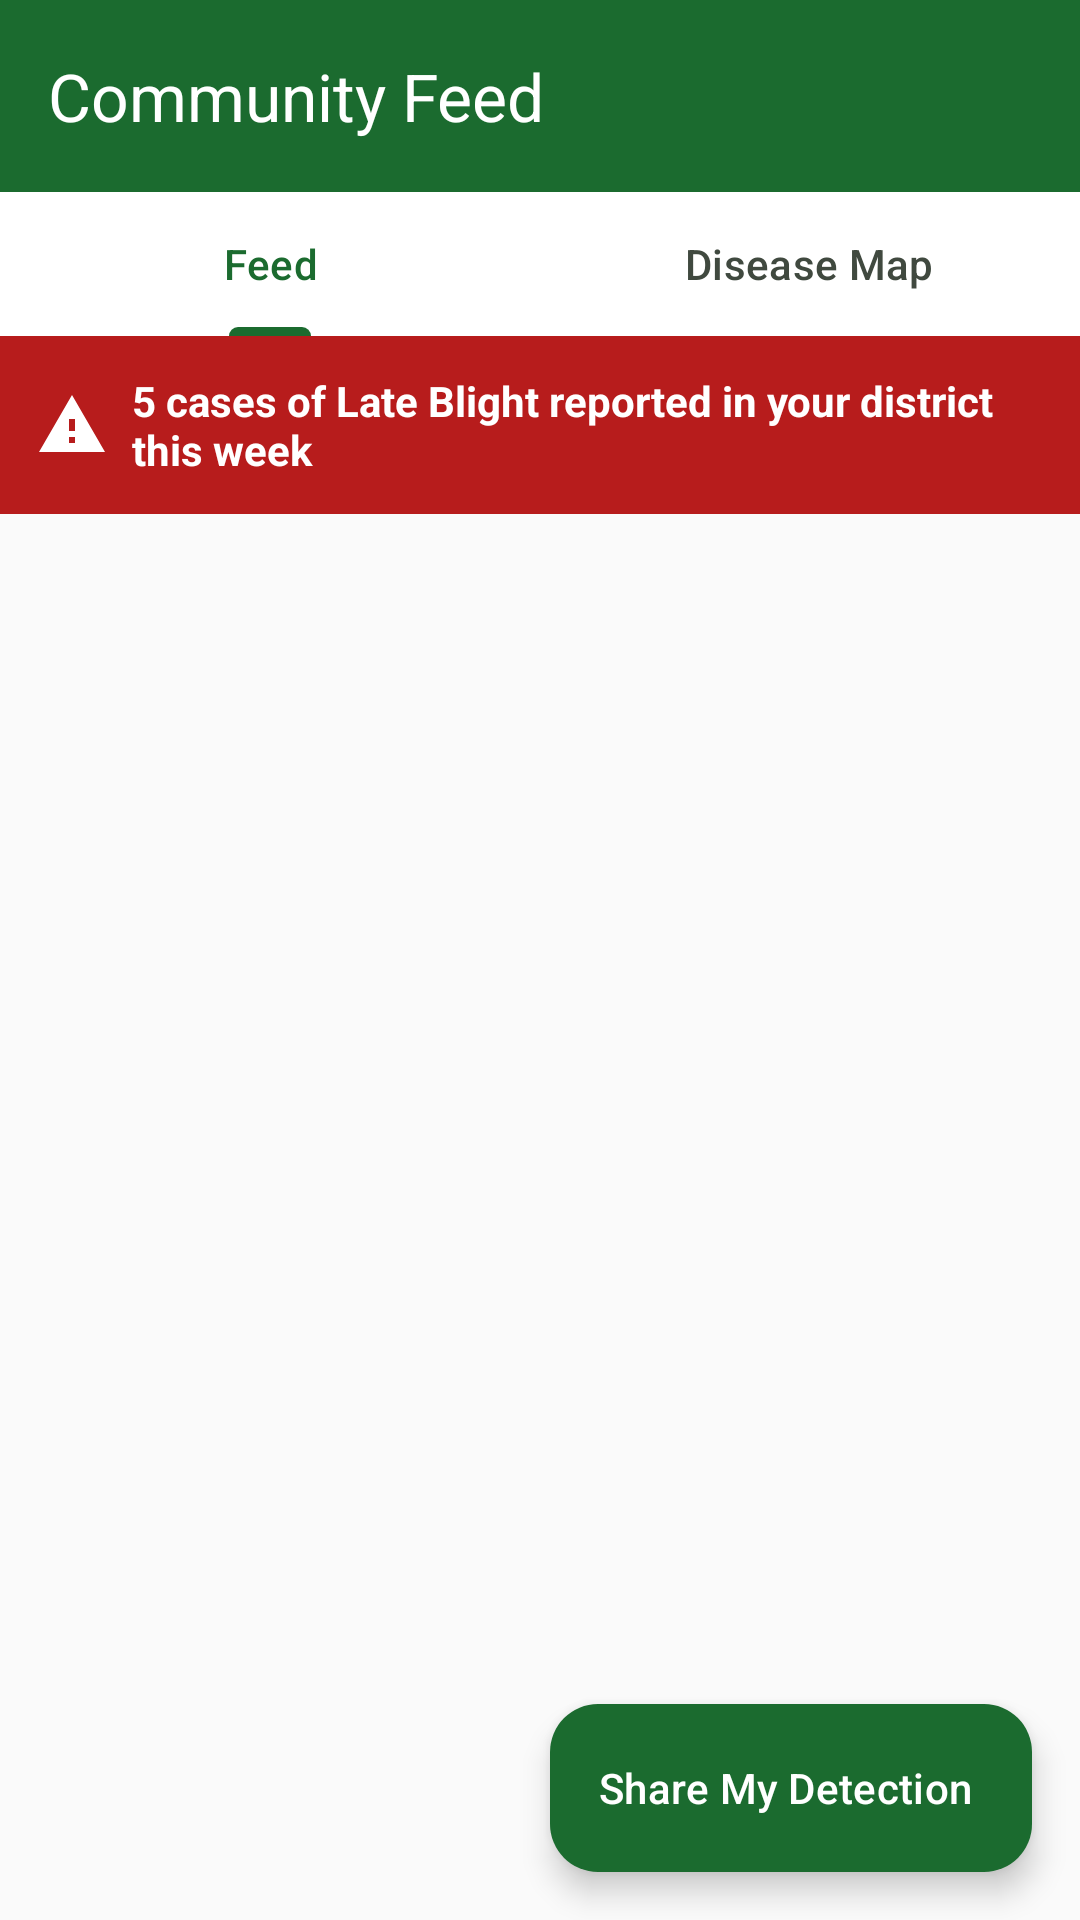

Screen size 1080w x 1920h. Icon name, then its center in pixels as point (x, y):
warning: point (72, 423)
